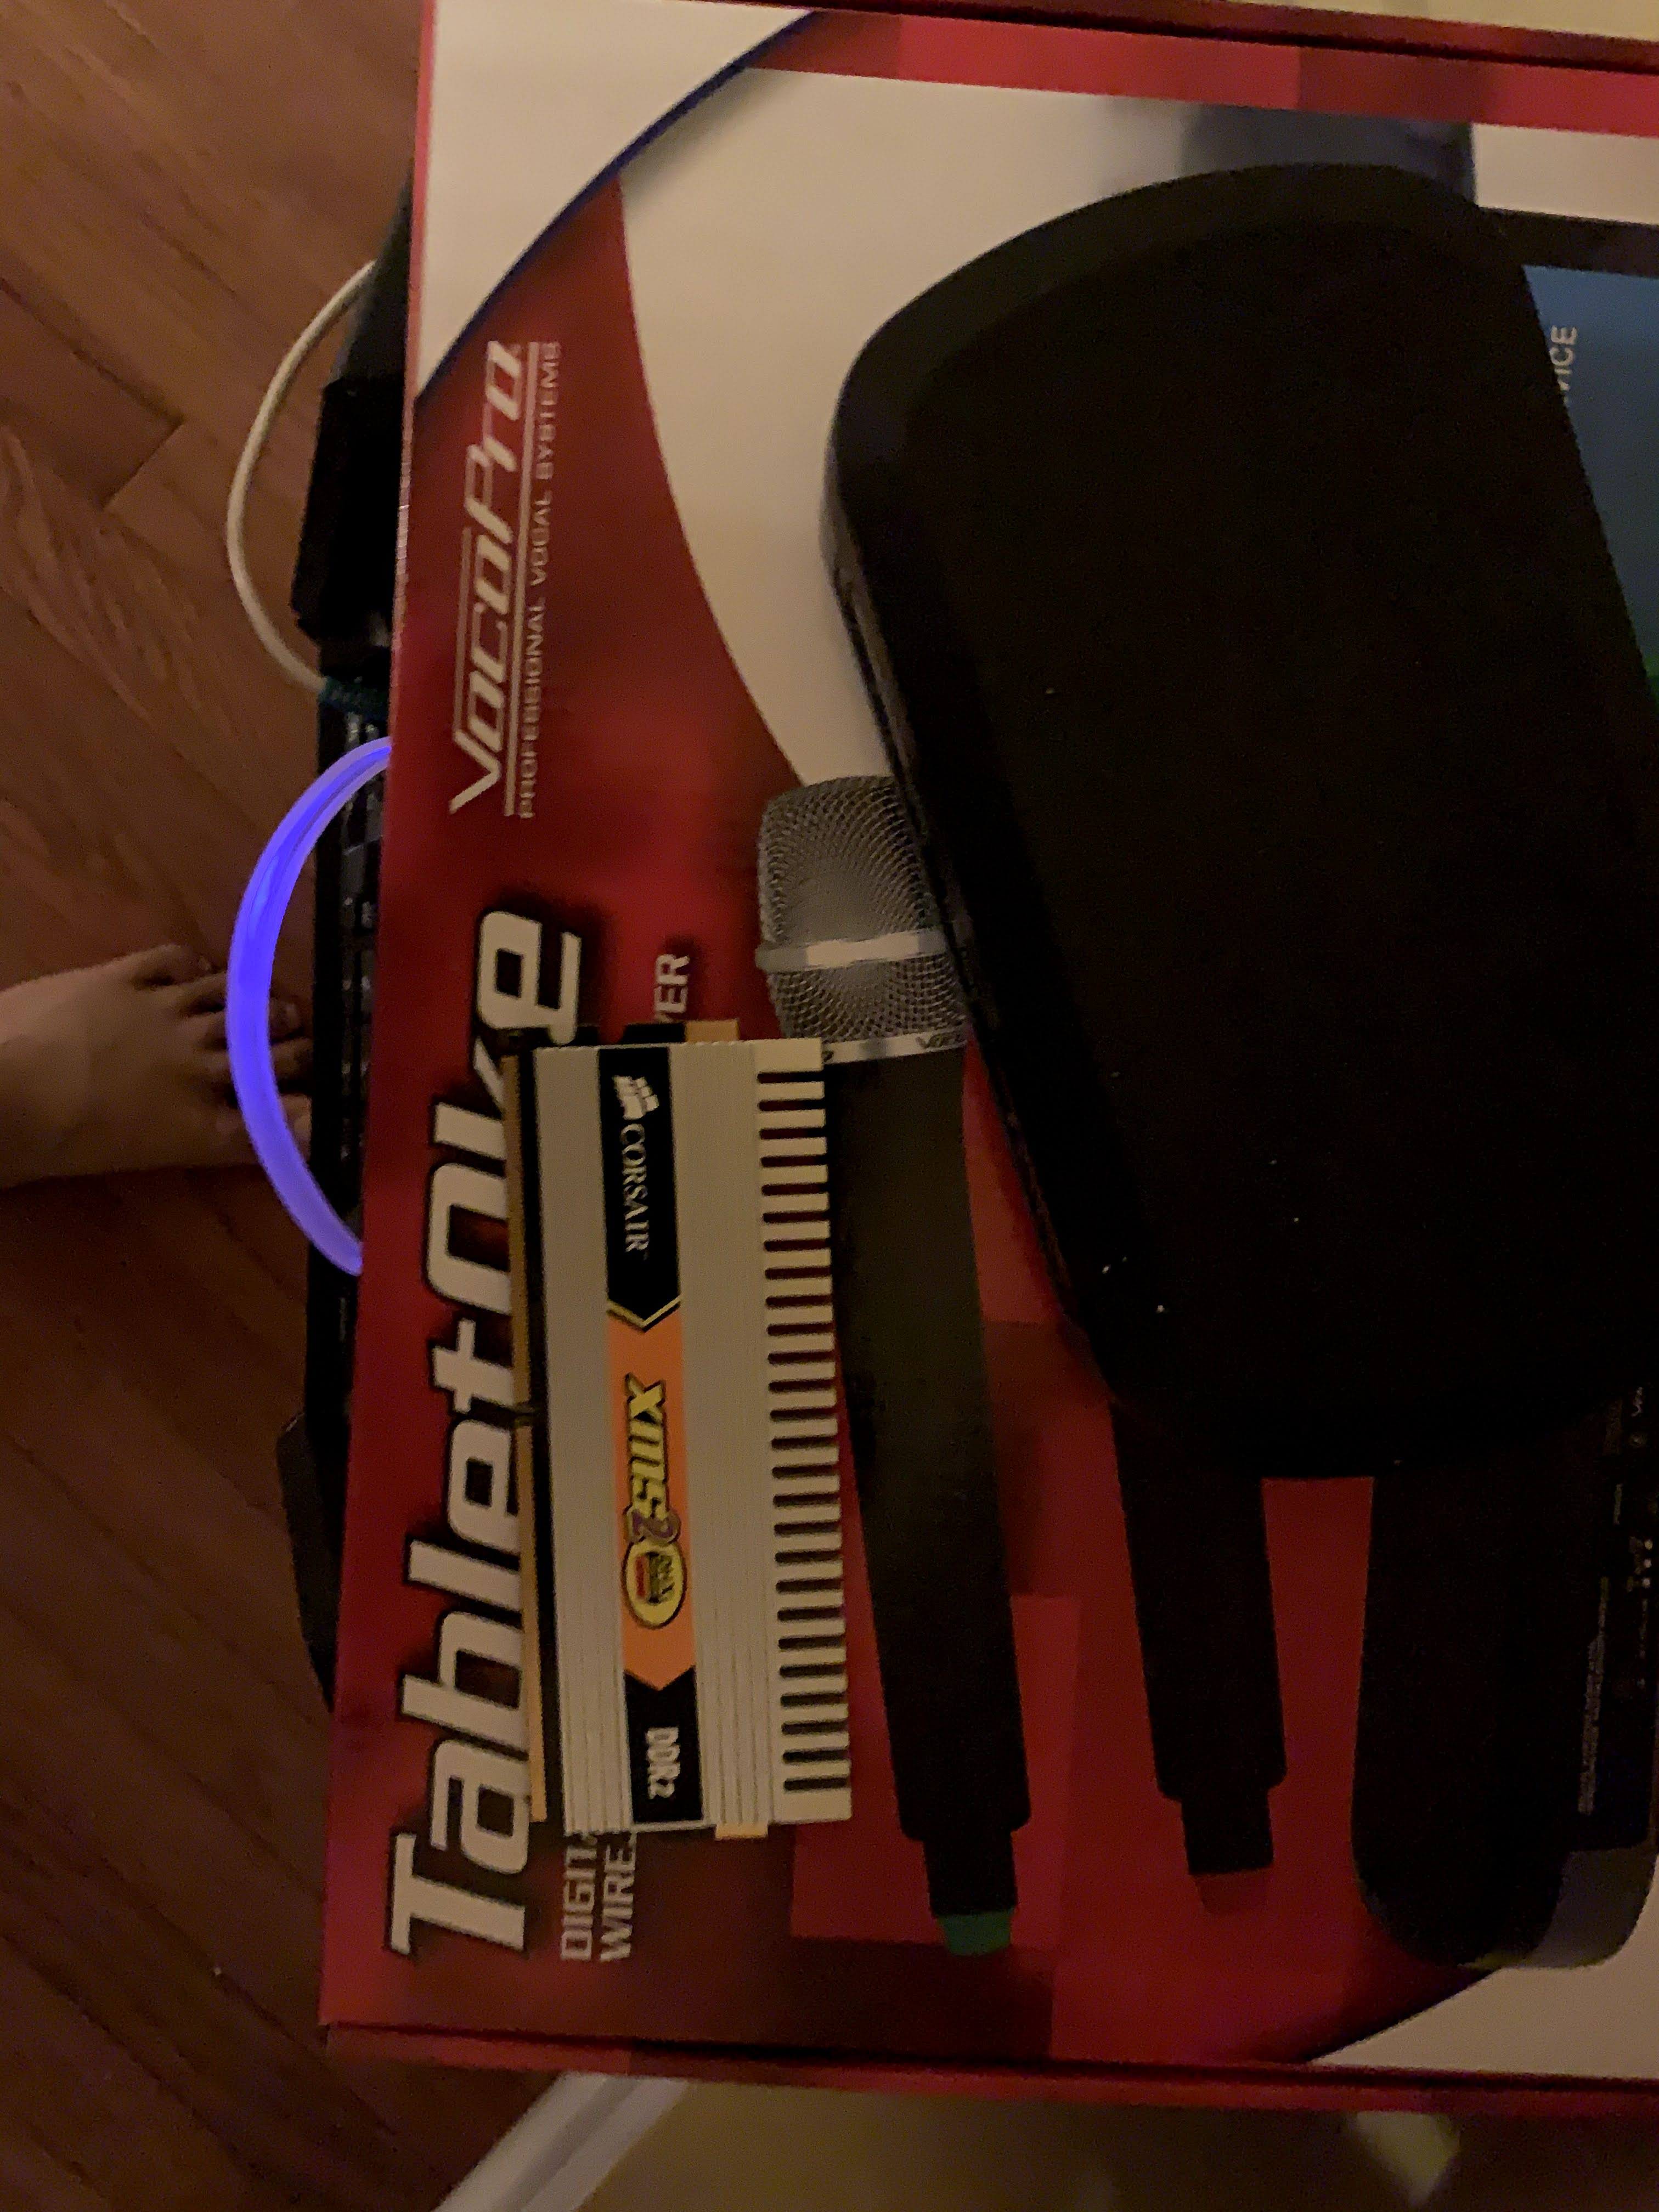Space-debris-medium: (483, 1021, 868, 1853)
